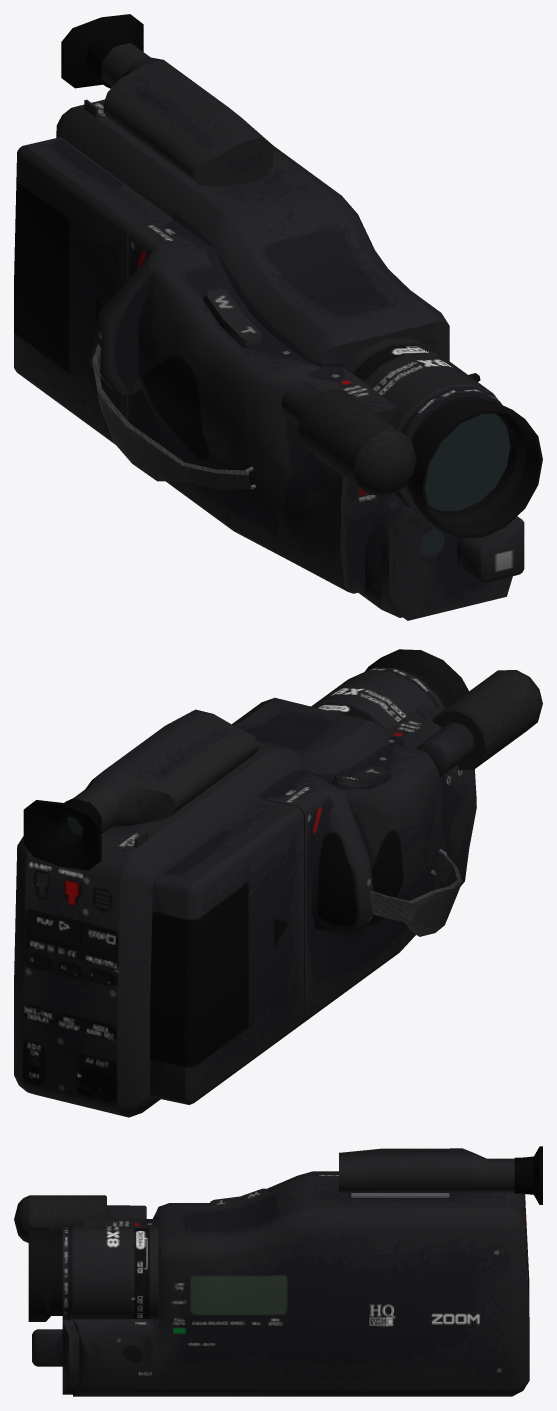
Rendered from Camera.fbx.
3 renders of one model, top to bottom at view 1: azimuth 30°, elevation 25°; view 2: azimuth 150°, elevation 25°; view 3: azimuth 270°, elevation 25°, orthographic. The views are drawn at different scales.
Parts seen in each view (by area): view 1: Camera_LOD0; view 2: Camera_LOD0; view 3: Camera_LOD0.
Boxes of the visible parts, box(x1,y1,x2,y2) form: Camera_LOD0: box(14, 14, 542, 620); Camera_LOD0: box(14, 649, 542, 1117); Camera_LOD0: box(14, 1146, 542, 1396).
Size of what is drawn, in the model's own units: 12.49 by 14.46 by 30.61.
